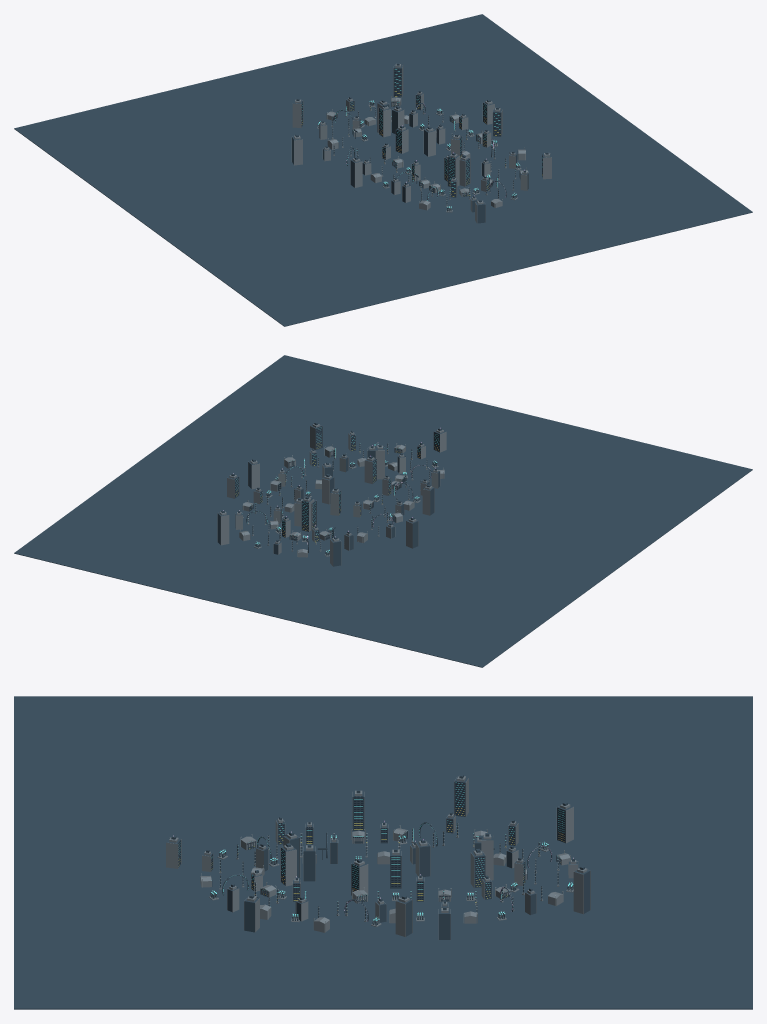
Rendered from polarity_station.glb.
3 views of the same model, one above another, from view 1: azimuth 30°, elevation 25°; view 2: azimuth 150°, elevation 25°; view 3: azimuth 270°, elevation 25° (orthographic). The views are drawn at different scales.
Visible parts, largest first — view 1: PL_DISTRICT_HOME, PL_DISTRICT_CROWN, PL_DISTRICT_SWITCHYARD, PL_DISTRICT_LAUNCH, PL_DISTRICT_SPINE, PL_DISTRICT_BYPASS; view 2: PL_DISTRICT_HOME, PL_DISTRICT_CROWN, PL_DISTRICT_LAUNCH, PL_DISTRICT_SWITCHYARD, PL_DISTRICT_SPINE, PL_DISTRICT_BYPASS; view 3: PL_DISTRICT_HOME, PL_DISTRICT_CROWN, PL_DISTRICT_BYPASS, PL_DISTRICT_LAUNCH, PL_DISTRICT_SWITCHYARD, PL_DISTRICT_SPINE.
Part boxes in pixels (x1,y1,x2,y2): PL_DISTRICT_HOME: [14, 14, 752, 326]; PL_DISTRICT_CROWN: [292, 62, 443, 139]; PL_DISTRICT_SWITCHYARD: [291, 104, 408, 165]; PL_DISTRICT_LAUNCH: [350, 153, 450, 194]; PL_DISTRICT_SPINE: [418, 99, 494, 156]; PL_DISTRICT_BYPASS: [451, 107, 525, 171]; PL_DISTRICT_HOME: [14, 355, 752, 667]; PL_DISTRICT_CROWN: [217, 496, 353, 566]; PL_DISTRICT_LAUNCH: [363, 455, 434, 517]; PL_DISTRICT_SWITCHYARD: [310, 488, 418, 548]; PL_DISTRICT_SPINE: [227, 473, 334, 517]; PL_DISTRICT_BYPASS: [248, 448, 333, 489]; PL_DISTRICT_HOME: [14, 696, 752, 1009]; PL_DISTRICT_CROWN: [470, 802, 590, 920]; PL_DISTRICT_BYPASS: [295, 858, 412, 937]; PL_DISTRICT_LAUNCH: [300, 789, 400, 881]; PL_DISTRICT_SWITCHYARD: [393, 774, 487, 876]; PL_DISTRICT_SPINE: [377, 848, 477, 939].
Bounding box in the file's own units: 1900 × 154 × 1900.
